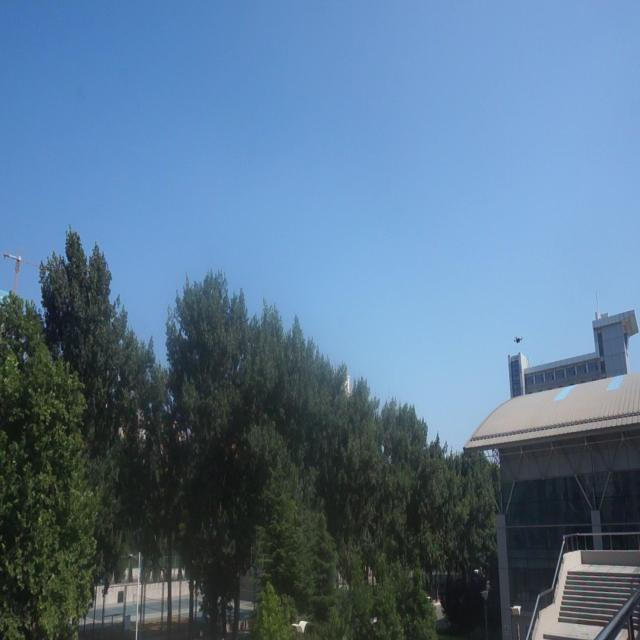drone: (512, 334, 524, 346)
